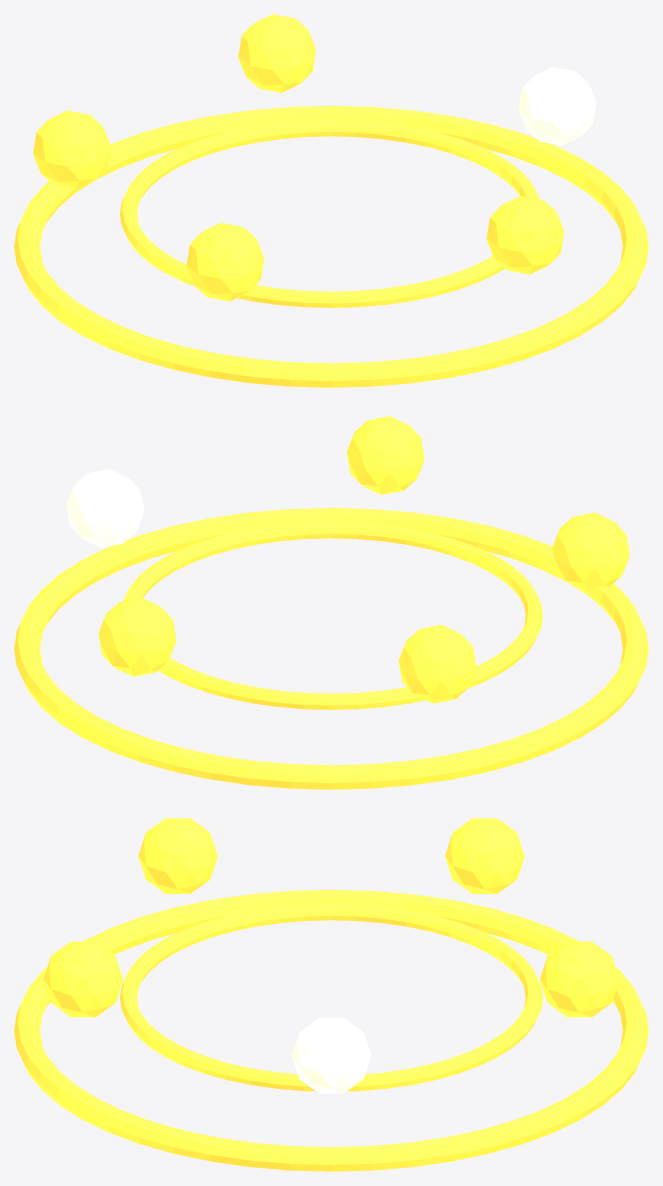
Rendered from effect-skill-charge.glb.
3 renders of one model, top to bottom at view 1: azimuth 30°, elevation 25°; view 2: azimuth 150°, elevation 25°; view 3: azimuth 270°, elevation 25°, orthographic.
Visible parts, largest first — view 1: RuneRing_0.42, RuneRing_0.28, ChargeMote_4, ChargeMote_5, ChargeMote_2, ChargeMote_1, ChargeMote_3; view 2: RuneRing_0.42, RuneRing_0.28, ChargeMote_2, ChargeMote_3, ChargeMote_5, ChargeMote_1, ChargeMote_4; view 3: RuneRing_0.42, RuneRing_0.28, ChargeMote_2, ChargeMote_5, ChargeMote_1, ChargeMote_3, ChargeMote_4.
Part boxes in pixels (box(x1,y1,x2,y2)): RuneRing_0.42: box(14, 106, 648, 387); RuneRing_0.28: box(120, 120, 539, 307); ChargeMote_4: box(186, 223, 264, 301); ChargeMote_5: box(486, 196, 564, 274); ChargeMote_2: box(238, 14, 316, 92); ChargeMote_1: box(518, 67, 596, 145); ChargeMote_3: box(33, 110, 110, 189); RuneRing_0.42: box(14, 508, 648, 789); RuneRing_0.28: box(123, 522, 542, 709); ChargeMote_2: box(98, 598, 176, 676); ChargeMote_3: box(398, 625, 476, 703); ChargeMote_5: box(346, 416, 424, 494); ChargeMote_1: box(66, 469, 144, 547); ChargeMote_4: box(552, 512, 629, 591); RuneRing_0.42: box(14, 890, 648, 1171); RuneRing_0.28: box(120, 904, 542, 1091); ChargeMote_2: box(540, 941, 619, 1017); ChargeMote_5: box(43, 941, 122, 1017); ChargeMote_1: box(291, 1017, 371, 1093); ChargeMote_3: box(445, 818, 524, 893); ChargeMote_4: box(138, 818, 217, 893).
Size of the model in its own units: 0.7183 by 0.1665 by 0.7183.
